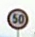limite 50: (6, 7, 28, 29)
